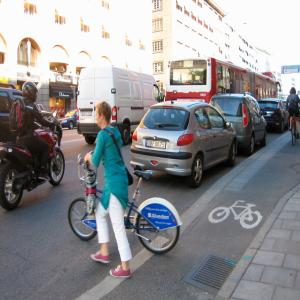Vehicle-registration-plate: (145, 140, 167, 150)
